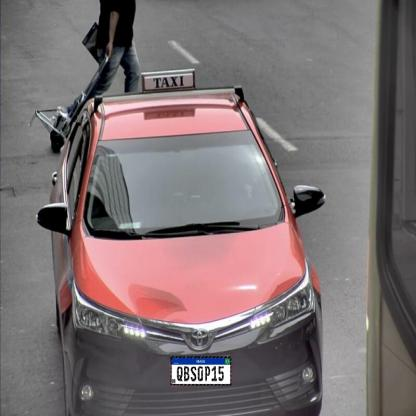PlacaM: (170, 356, 232, 386)
